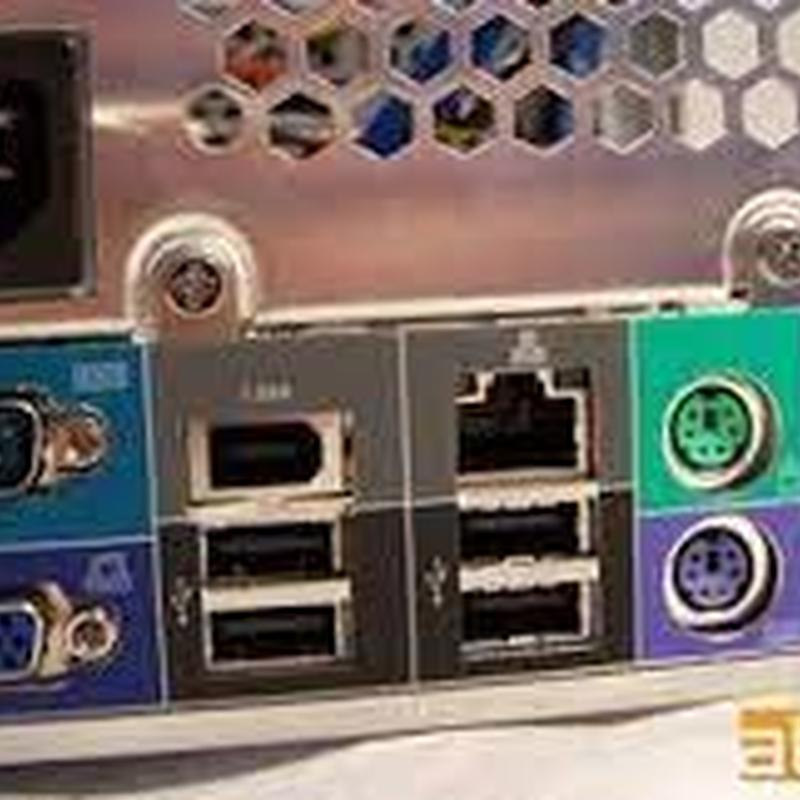ETHERNET: (414, 314, 615, 489), (642, 508, 799, 669)
HDMI: (177, 385, 362, 497)
PS2: (636, 308, 796, 496)
USB: (194, 590, 358, 672), (448, 577, 600, 663), (186, 512, 351, 588), (440, 498, 603, 573)
VGA: (0, 549, 146, 722)
